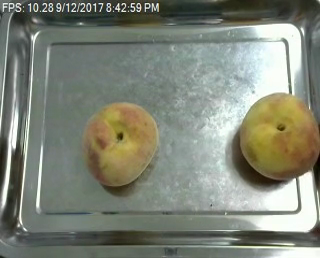Peach: (238, 91, 320, 181), (82, 101, 158, 187)
